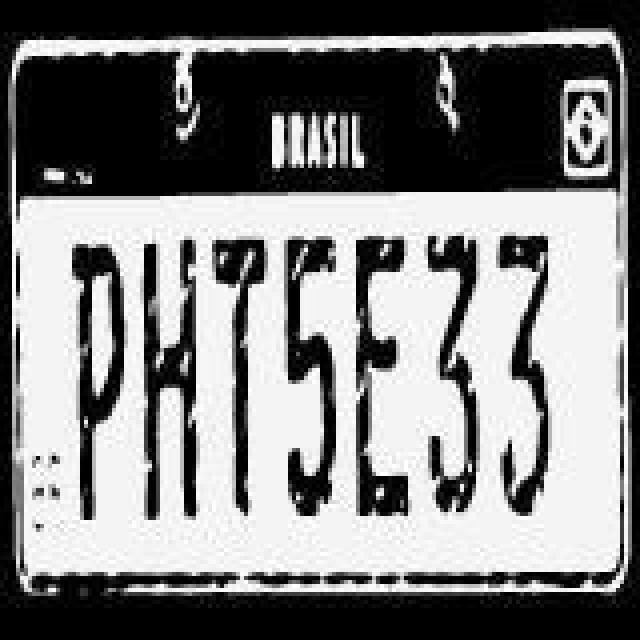3: (496, 234, 552, 518), (428, 236, 484, 516)
5: (280, 234, 336, 518)
E: (352, 234, 408, 518)
H: (136, 234, 200, 518)
P: (70, 244, 130, 524)
T: (210, 236, 270, 516)
